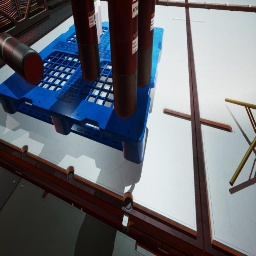0: (94, 0, 100, 44), (97, 0, 103, 36)
FirstAidBox ,: (100, 0, 101, 1)
NitrogenTank ,: (108, 0, 138, 118), (70, 0, 101, 82), (0, 32, 44, 85), (137, 0, 155, 88), (155, 0, 158, 5)
